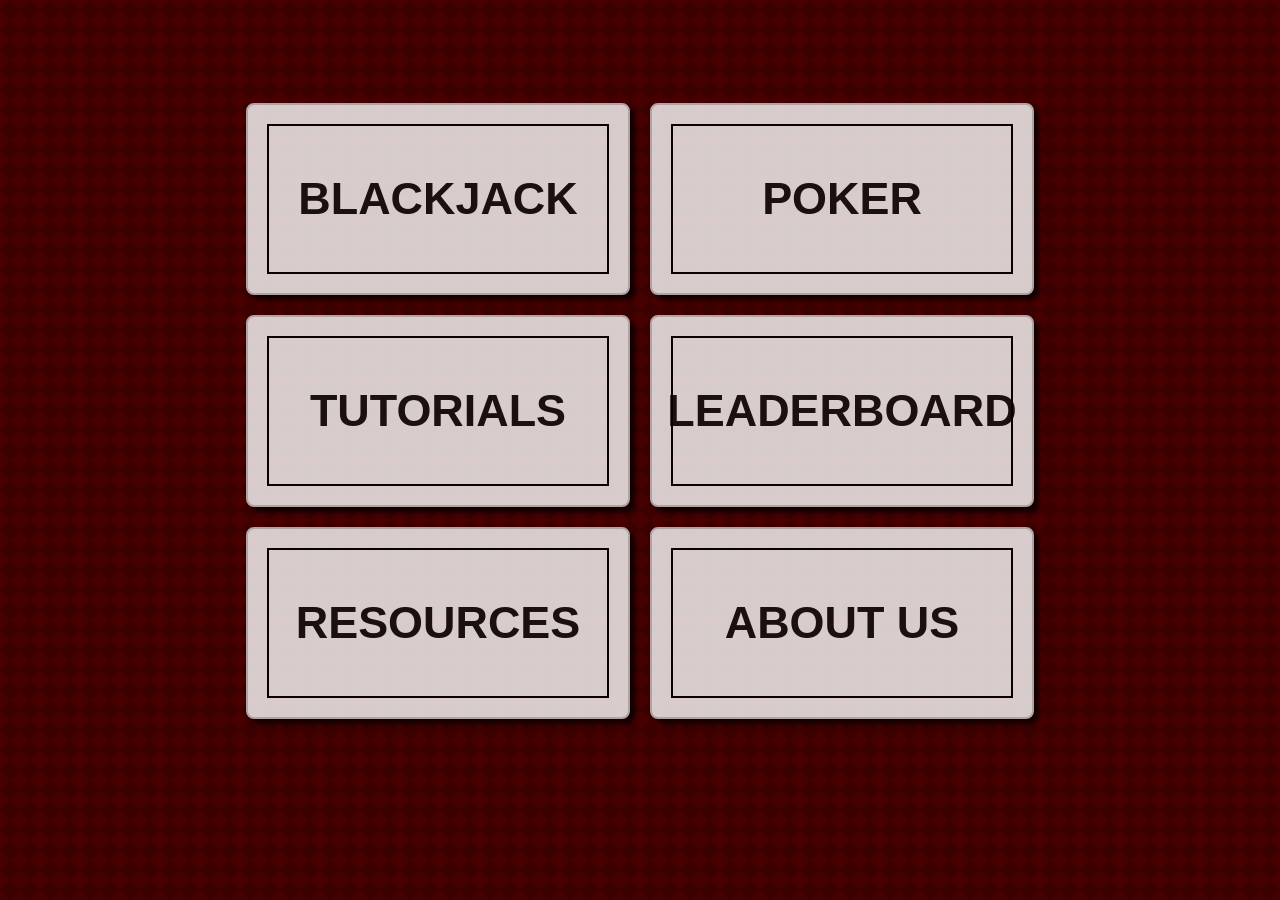
Home Component - Integration Tests › navigates to Poker when the link is clicked
The width and height of the screenshot is (1280, 900).
Click the link "Poker". click: (842, 199)
box: [650,103,1034,295]
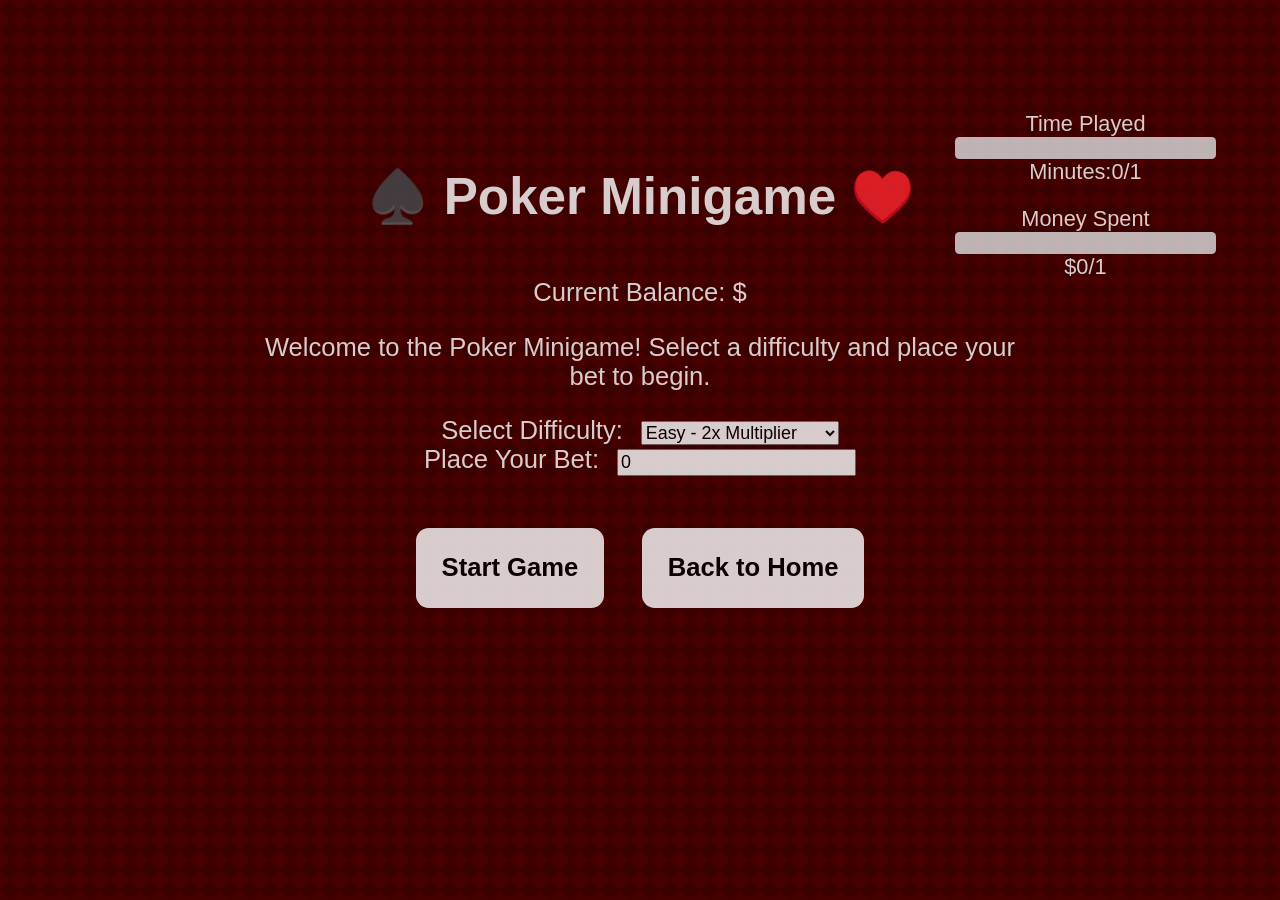
Result: the heading "♠️ Poker Minigame ♥️" is shown at [366,168,914,225]
